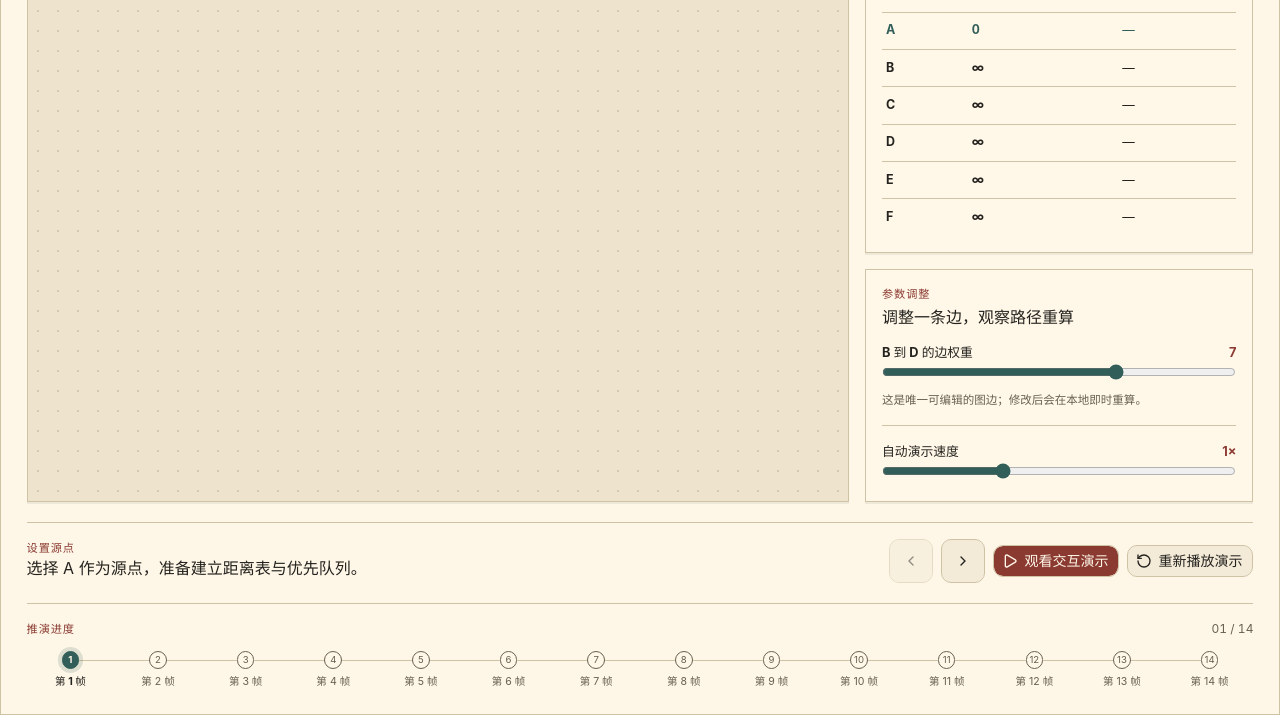
Test: DijkstraDemo viewport behavior › pauses autoplay when the demo leaves the viewport
(page scrolled)
Click the button "观看交互演示" at (1056, 561), box [993, 545, 1119, 577]
(page scrolled)
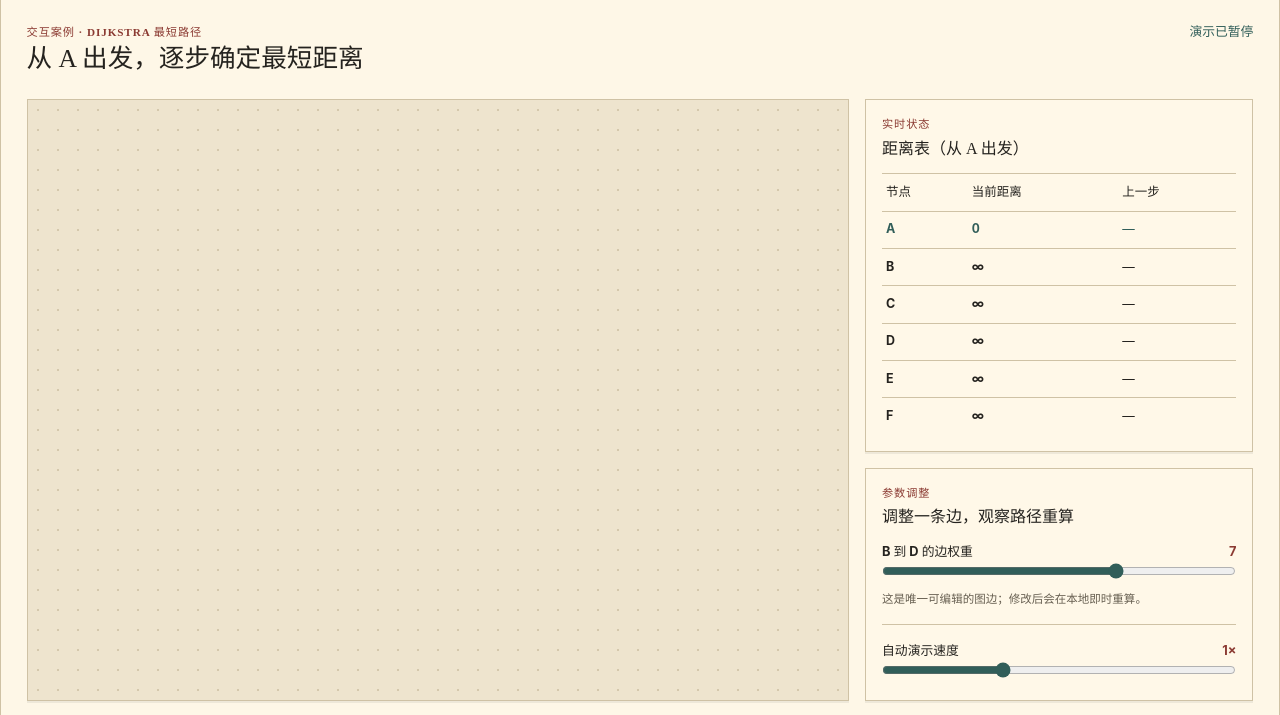
Result: the text "演示已暂停" is shown at [1189, 22, 1253, 41]
